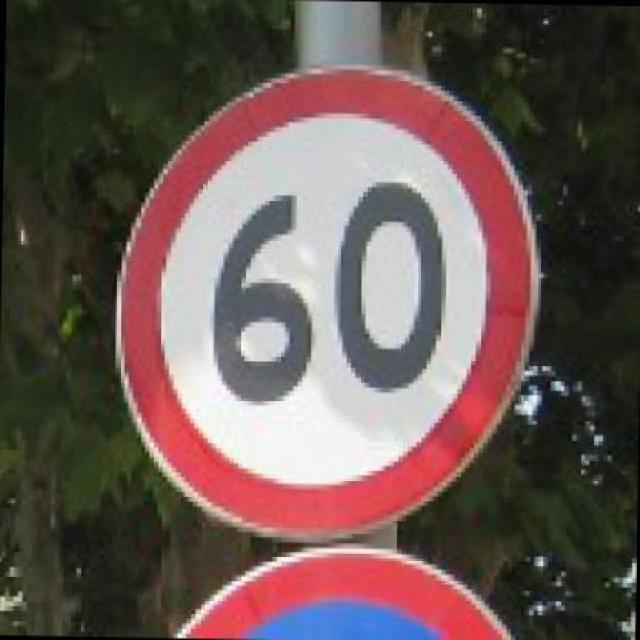Limite-60: (112, 61, 546, 548)
